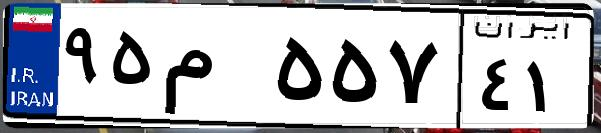1: (525, 38, 570, 115)
4: (475, 38, 525, 113)
5: (270, 28, 330, 110), (330, 28, 385, 110), (110, 28, 158, 98)
7: (385, 28, 445, 110)
9: (57, 26, 110, 100)
م: (158, 20, 270, 120)
